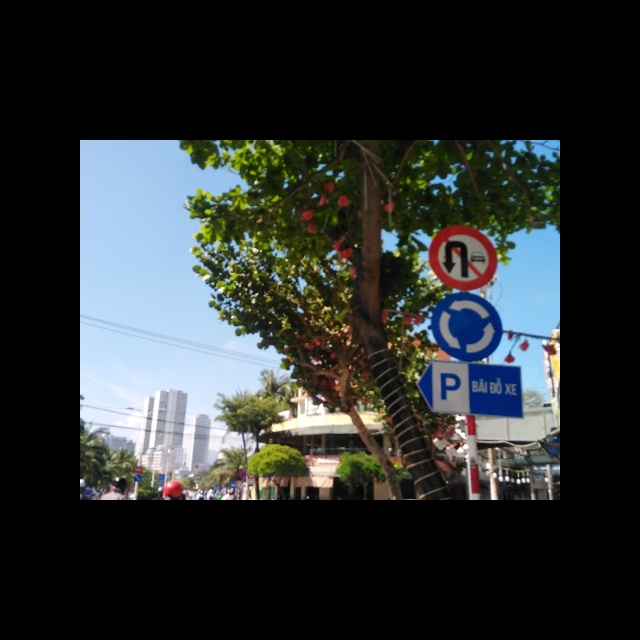Cấm xe ô tô quay đầu: (429, 224, 498, 290)
Nơi giao nhau chạy theo vòng xuyến: (431, 293, 504, 362)
Nơi đỗ xe: (419, 362, 523, 415)
